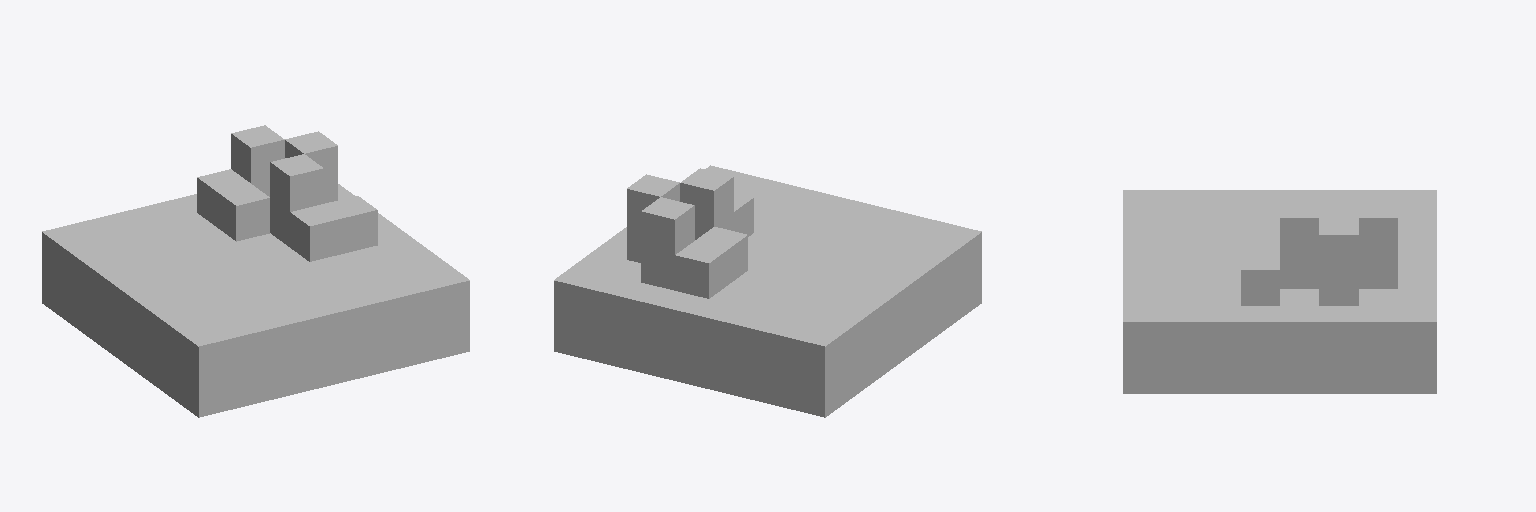
Rendered from crossroadWithBush.obj.
3 views of the same model, side by side, from view 1: azimuth 30°, elevation 25°; view 2: azimuth 150°, elevation 25°; view 3: azimuth 270°, elevation 25° (orthographic).
Visible parts, largest first — view 1: object 1; view 2: object 1; view 3: object 1.
Part boxes in pixels (x1,y1,x2,y2): object 1: (42,125,469,417); object 1: (554,165,981,417); object 1: (1123,190,1436,393).
Size of the model in its own units: 0.8 by 0.4 by 0.8.